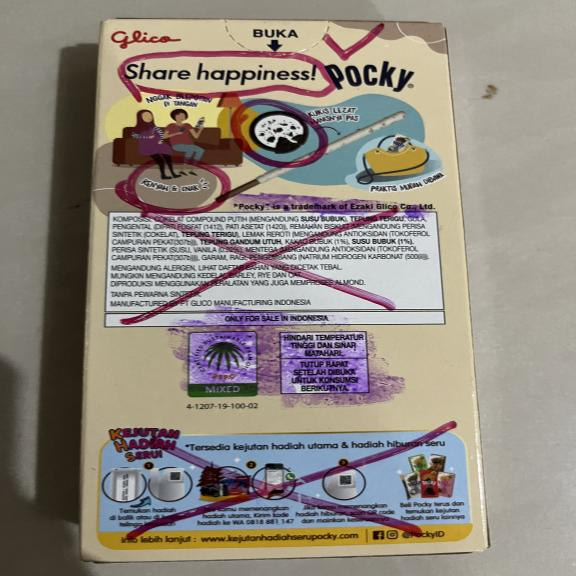Kertas: (78, 17, 493, 566)
